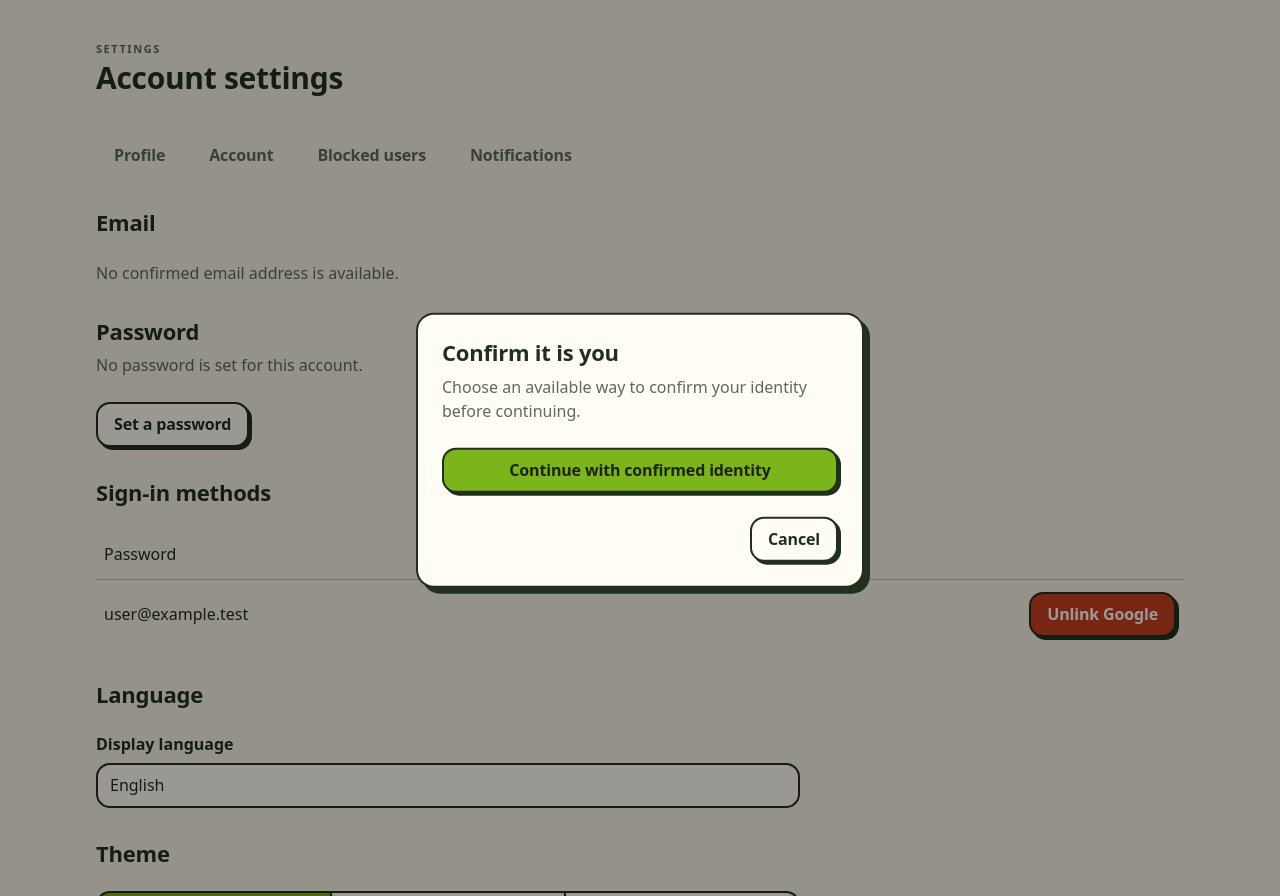
Test: PasswordManagement › blocks a short new password on the set-password form app-side, without ever POSTing_D184
Click the button "Continue with confirmed identity" at (640, 470), box [442,448,838,493]
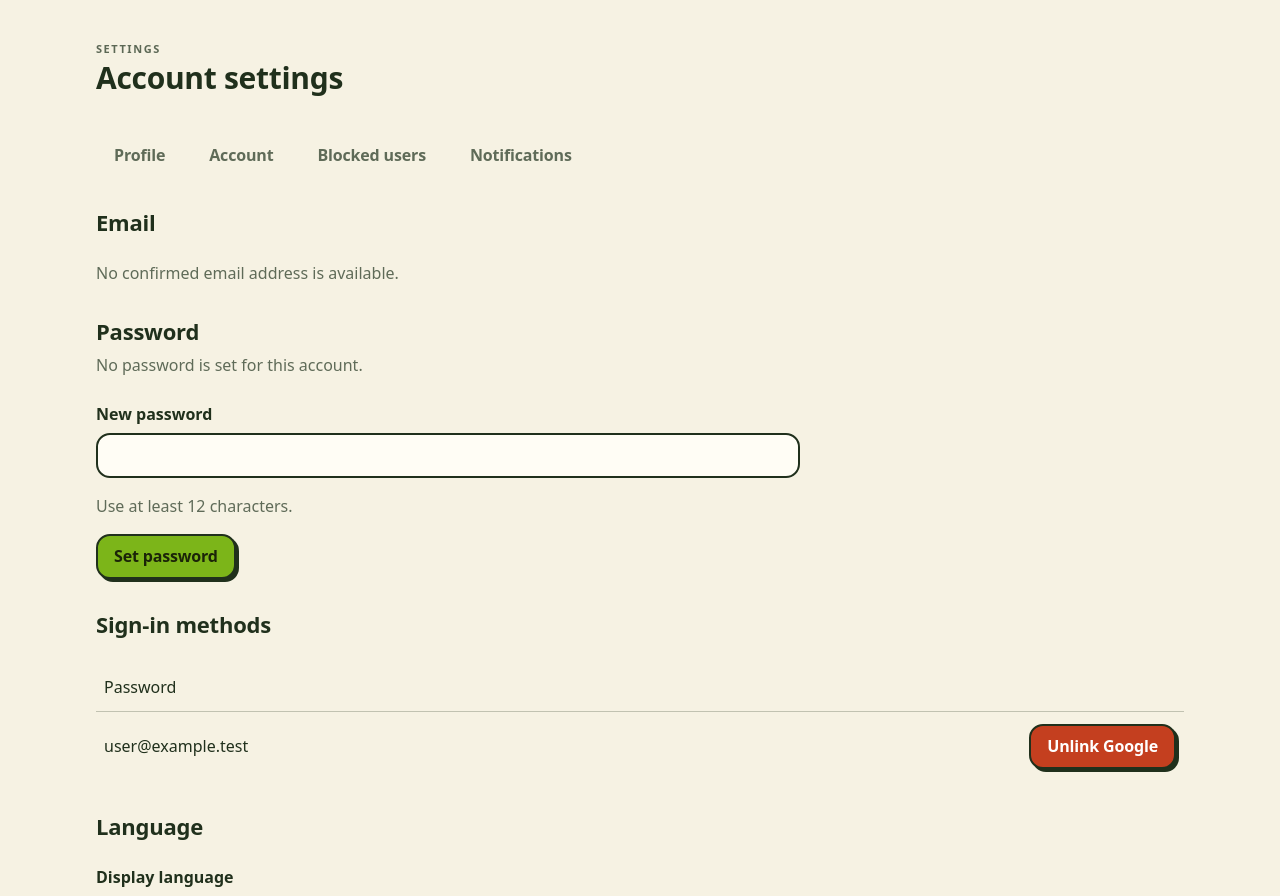
Type "short" into the password field labelled "New password" at (448, 455), box [96,433,800,478]
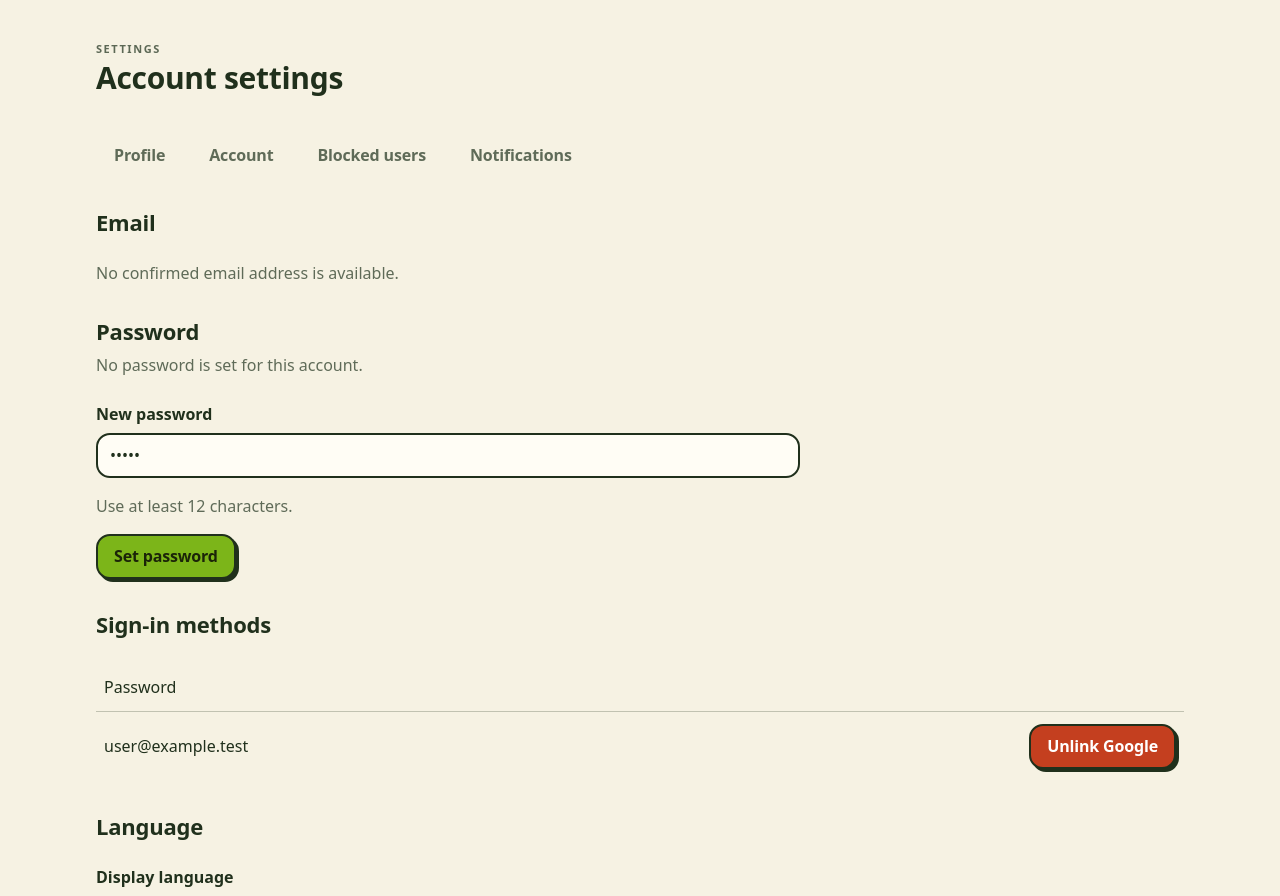
Click the button "Set password" at (166, 557), box [96,534,236,579]
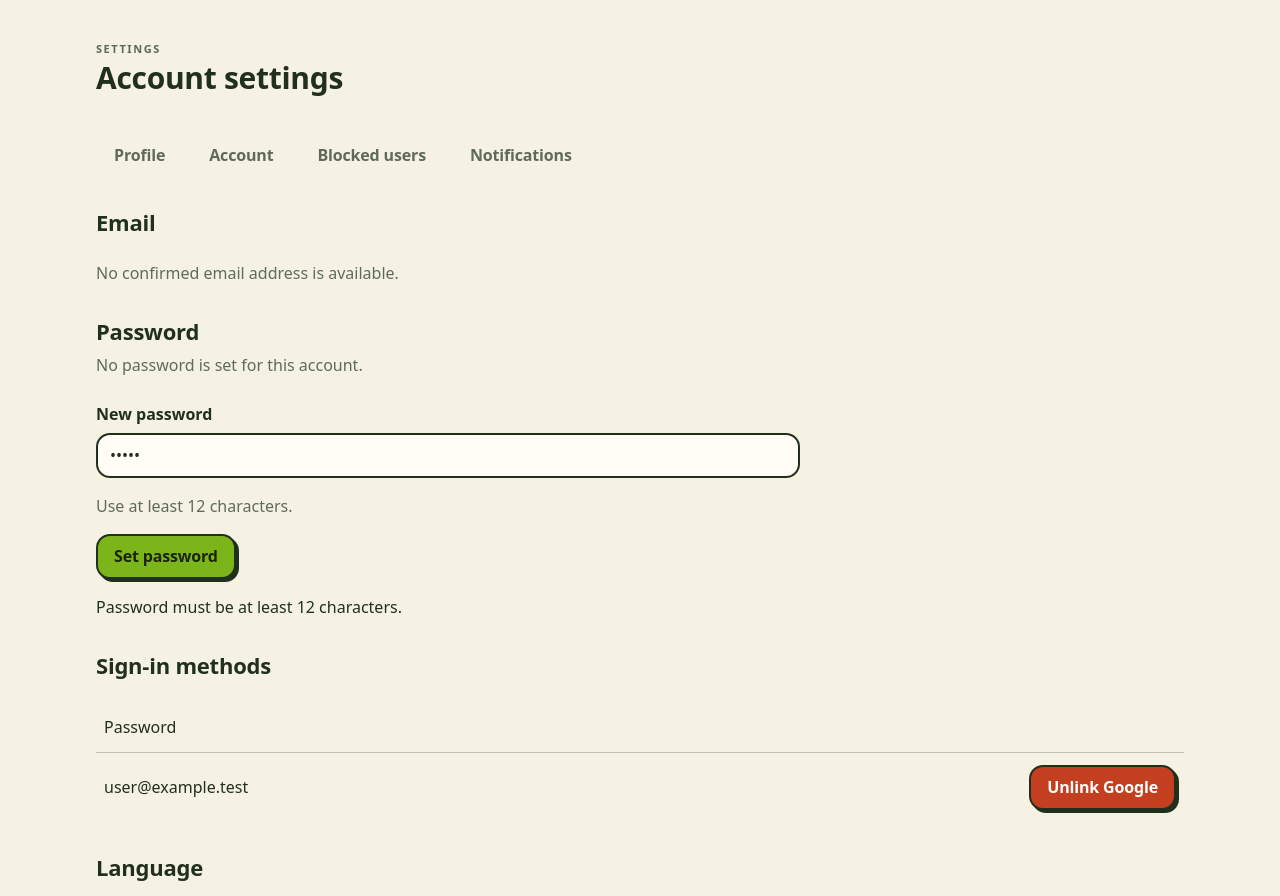
Check: the message reads "Password must be at least 12 characters.", box [96,596,402,618]
